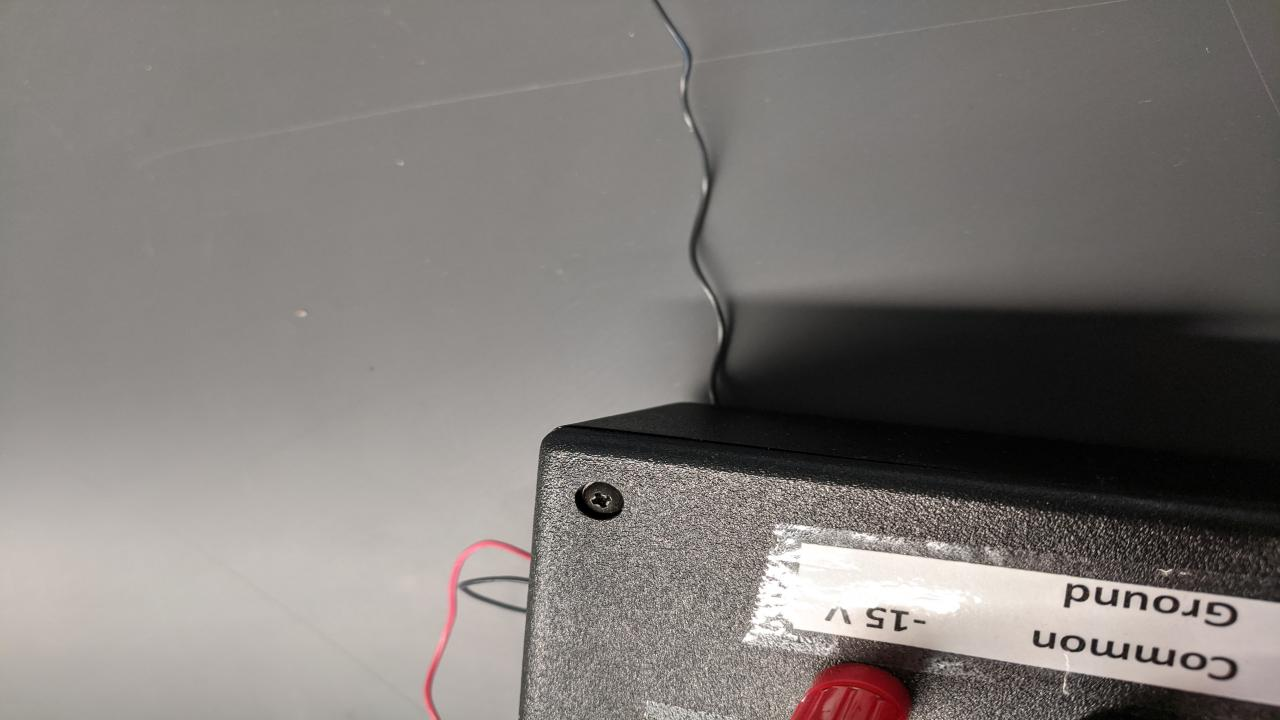CRS: (576, 480, 623, 517)
